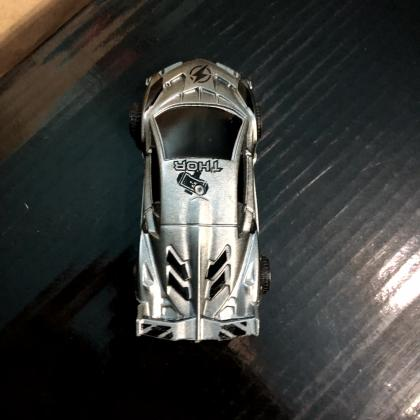Car: (132, 59, 268, 344)
